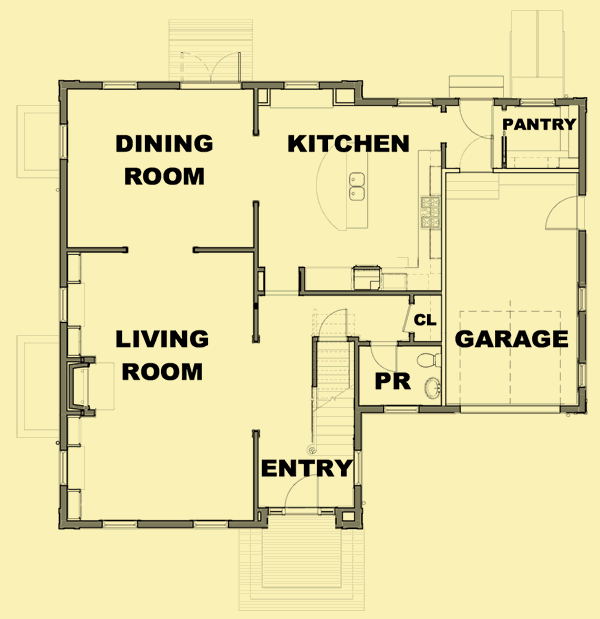door: (180, 50, 243, 87), (542, 193, 587, 235), (457, 98, 497, 140), (284, 472, 324, 514), (368, 339, 402, 374)
kitchen_bar: (312, 139, 369, 230)
large_sink: (413, 348, 443, 369)
stairs: (311, 338, 355, 454)
window: (55, 119, 71, 160), (97, 516, 140, 530), (186, 516, 231, 529), (56, 447, 70, 486), (398, 96, 434, 111), (573, 361, 592, 389), (55, 287, 69, 324), (99, 82, 141, 91), (519, 98, 556, 108), (281, 81, 320, 89), (579, 285, 587, 314)
